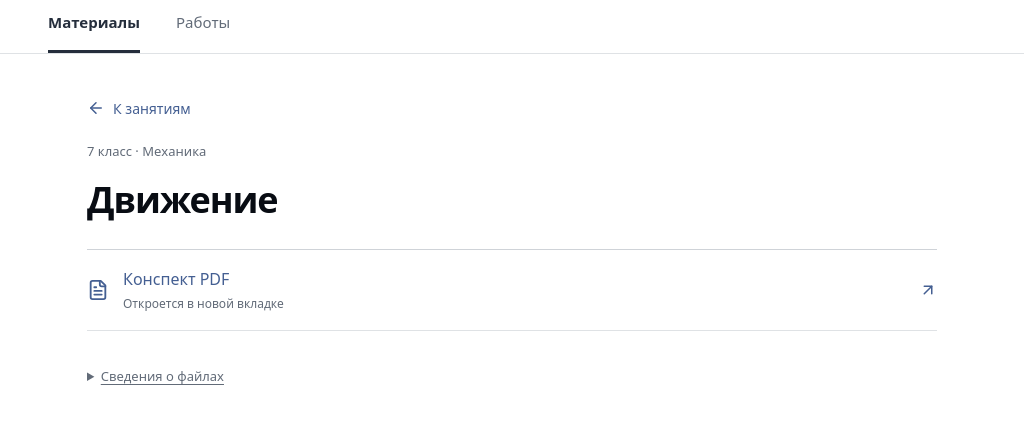
Test: closes the placeholder and offers retry when file opening fails
Click the button with aria-label "Конспект PDF: Движение" at [176, 279], box x1=87 y1=250 x2=937 y2=330
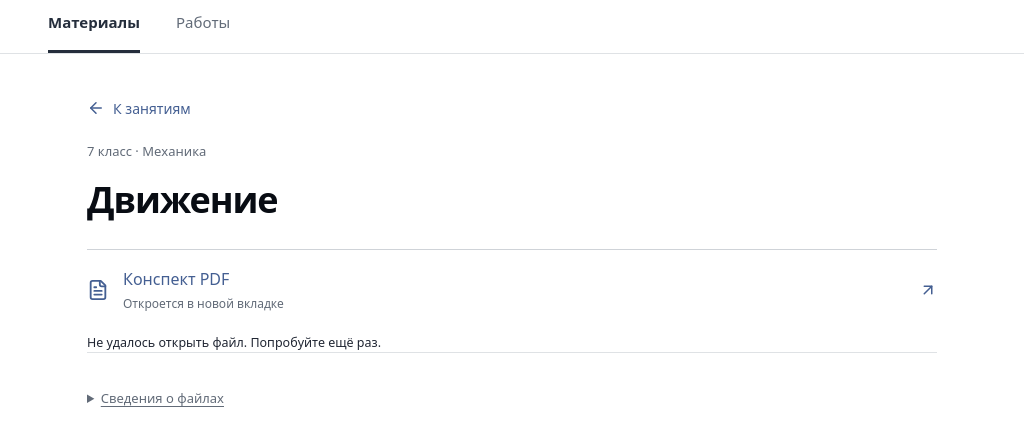
Now the message shows "Не удалось открыть файл", box x1=87 y1=334 x2=381 y2=351
